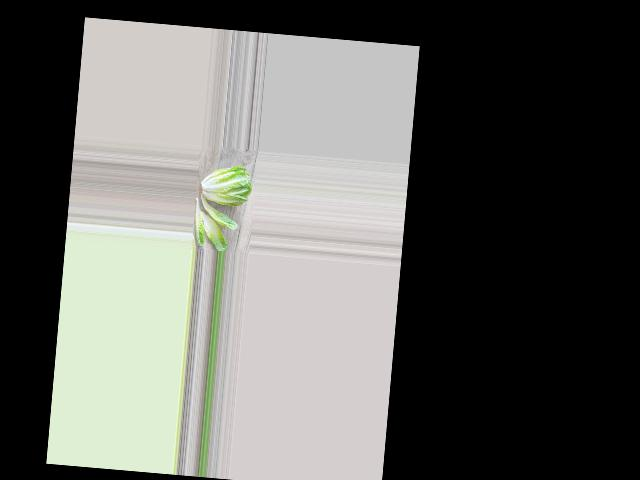lettuce: (200, 161, 253, 209)
